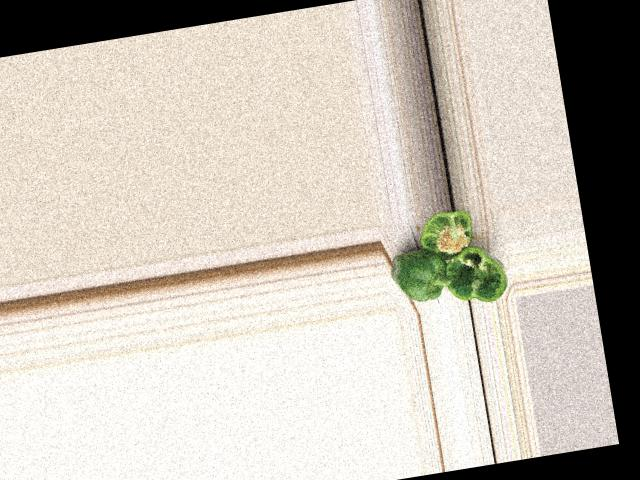bell_pepper: (412, 206, 487, 263)
